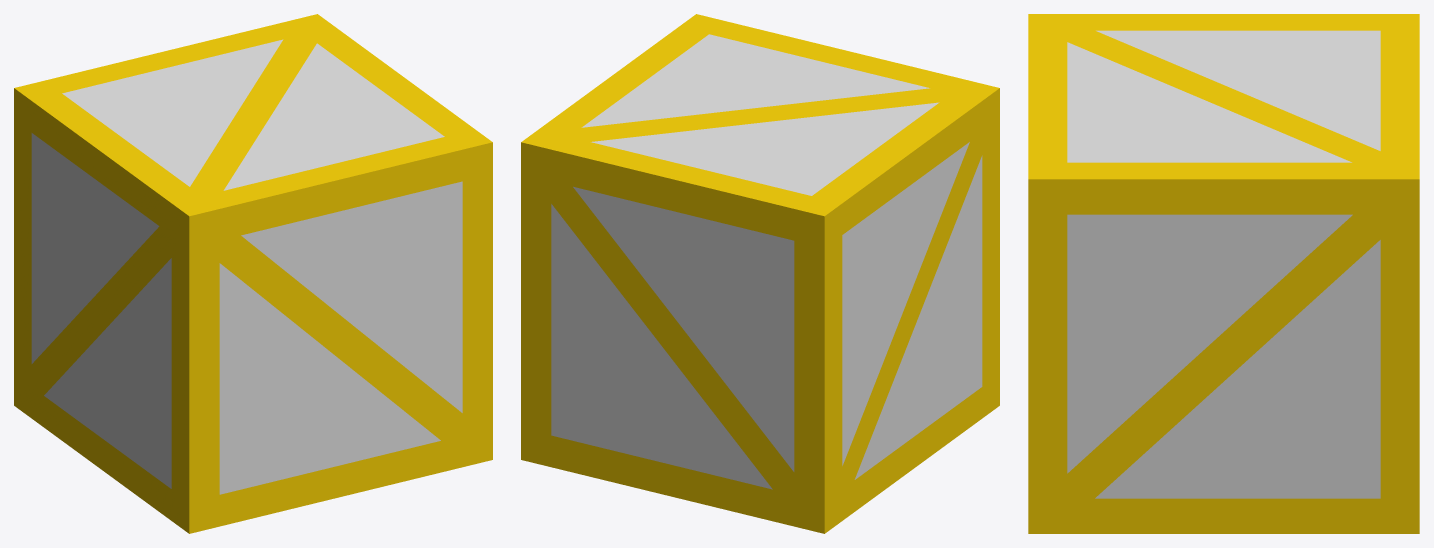
Rendered from boxA2.fbx.
3 renders of one model, left to right at view 1: azimuth 30°, elevation 25°; view 2: azimuth 150°, elevation 25°; view 3: azimuth 270°, elevation 25°, orthographic. The views are drawn at different scales.
Parts seen in each view (by area): view 1: Cube; view 2: Cube; view 3: Cube.
Part boxes in pixels (left/top/right/bottom): Cube: left=14, top=14, right=492, bottom=533; Cube: left=521, top=14, right=999, bottom=533; Cube: left=1028, top=14, right=1419, bottom=533.
Size of the model in its own units: 200 by 200 by 200.
